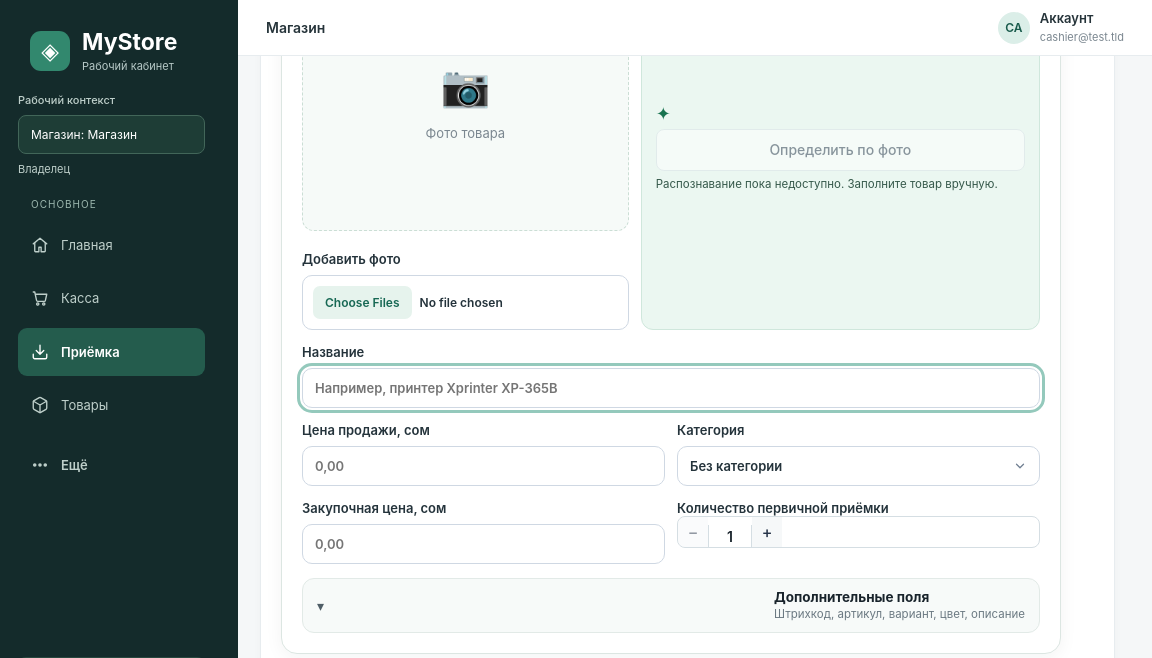
Test case: creation does not silently receive stock
(page scrolled)
Type "Сумка" into the field labelled "Название" at (671, 388), box x1=302 y1=368 x2=1040 y2=408
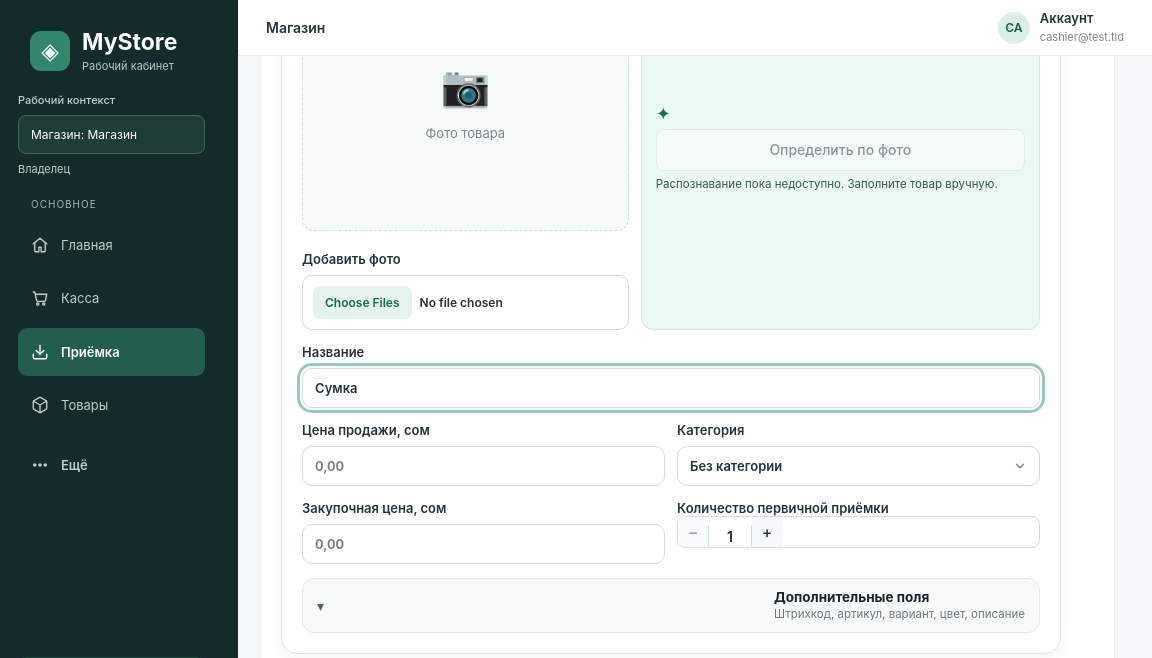
Type "150,25" into the field labelled "Цена продажи, сом" at (484, 466), box x1=302 y1=446 x2=665 y2=486
(page scrolled)
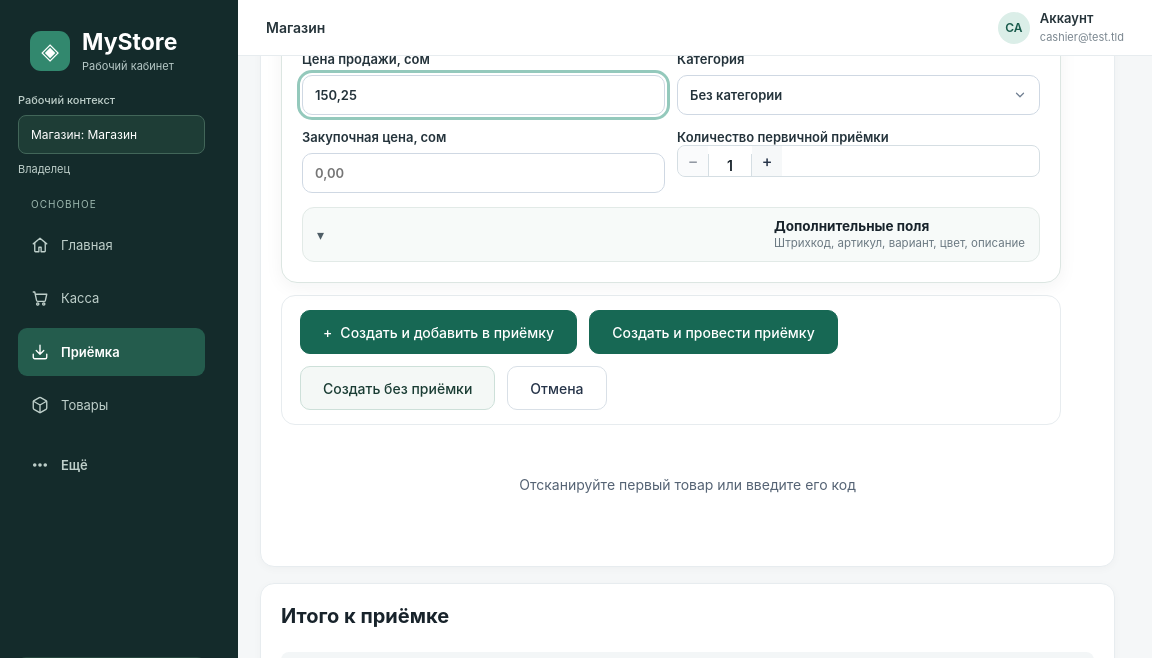
Click the button "Создать без приёмки" at (398, 388), box x1=300 y1=366 x2=495 y2=410
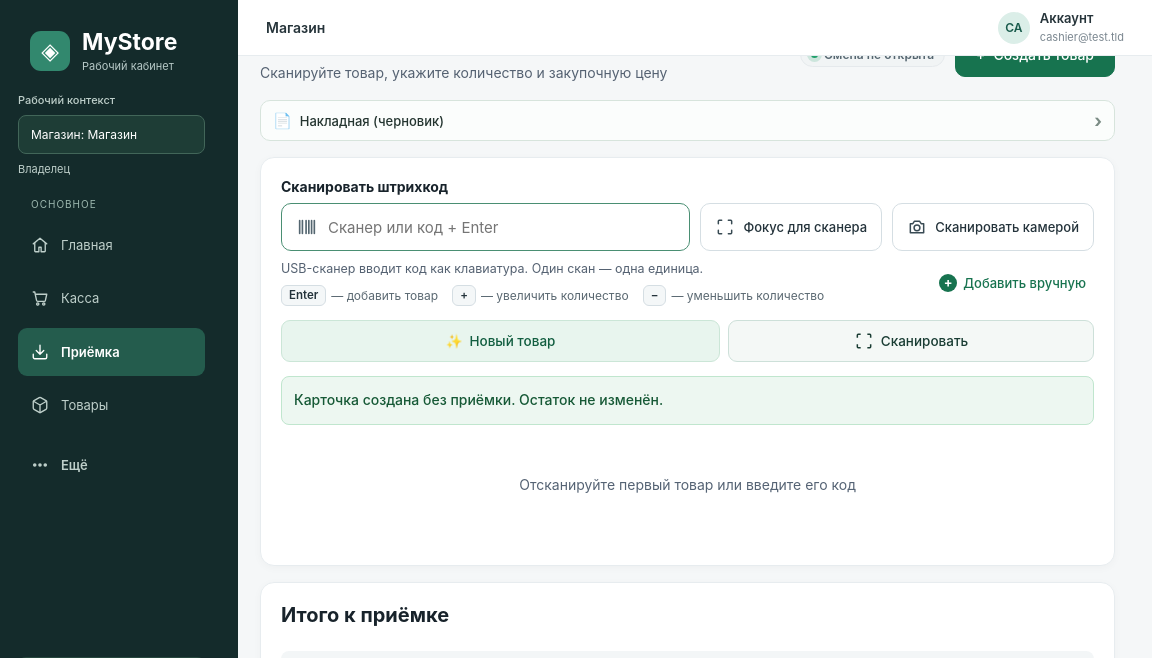
Check: the text "Карточка создана без приёмки. Остаток не изменён." is shown, box x1=281 y1=376 x2=1094 y2=425
